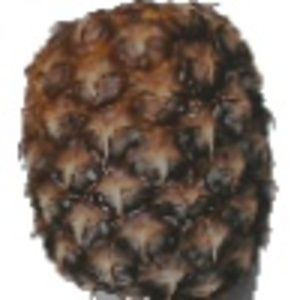abacaxi: (16, 1, 279, 299)
